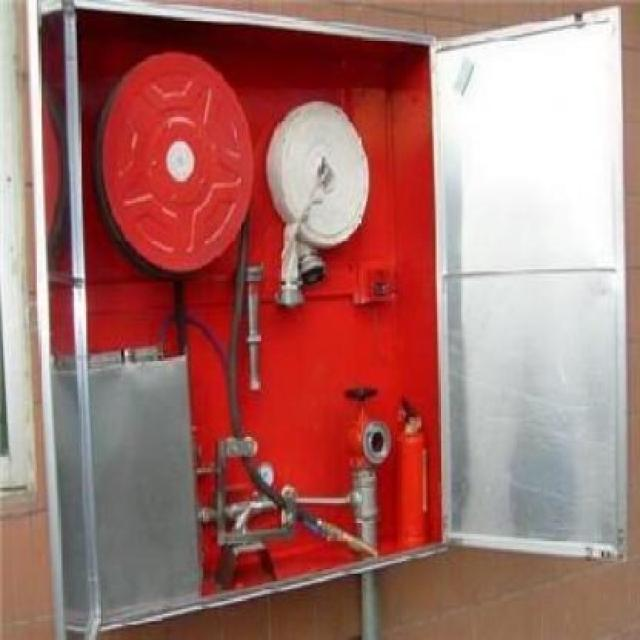firehydrant: (31, 0, 632, 640)
